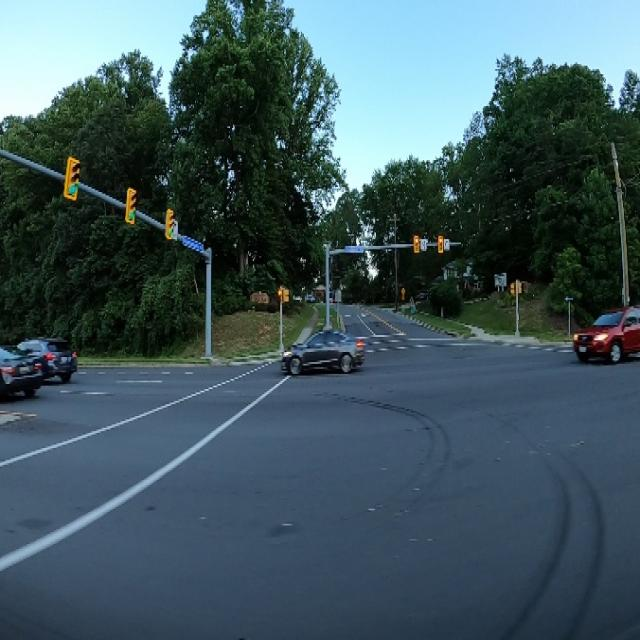car: (275, 317, 368, 387), (573, 297, 640, 367), (15, 327, 87, 386), (0, 340, 45, 400)
